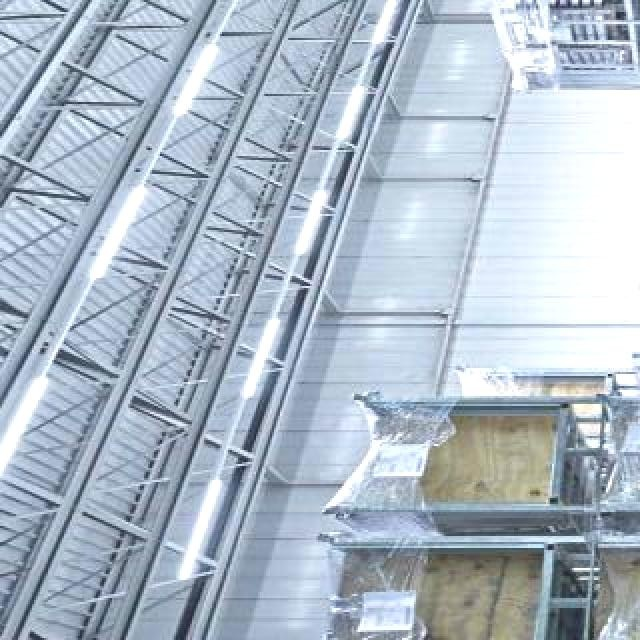fluorescent tube: (174, 466, 234, 598), (0, 363, 60, 494), (89, 175, 155, 287), (160, 35, 227, 137), (240, 298, 298, 406), (283, 176, 341, 262), (325, 82, 375, 156), (366, 0, 402, 58), (232, 0, 280, 8)
